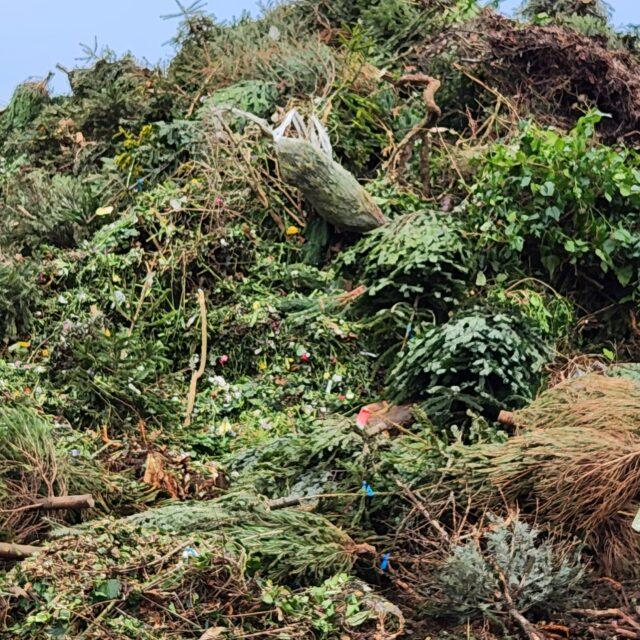food_waste: (0, 106, 281, 360), (16, 467, 413, 640), (278, 341, 559, 538), (273, 0, 640, 105), (548, 20, 640, 399), (508, 359, 640, 616), (476, 107, 640, 236), (0, 391, 110, 572)
